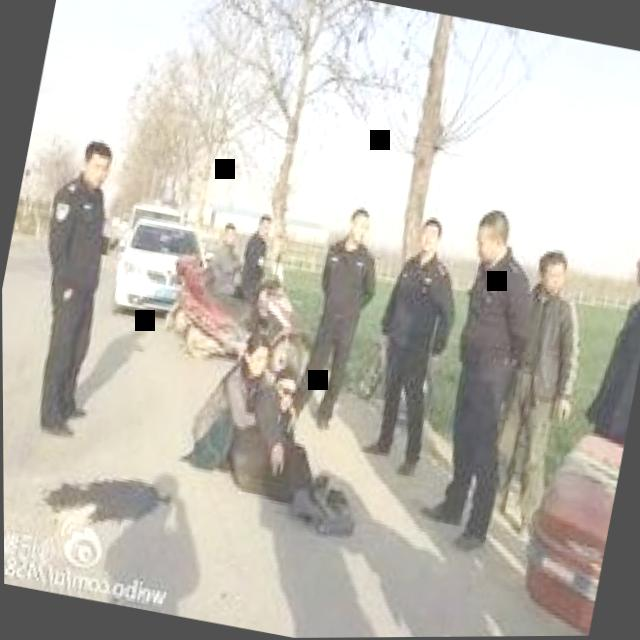Fall-Detected: (217, 333, 388, 545)
